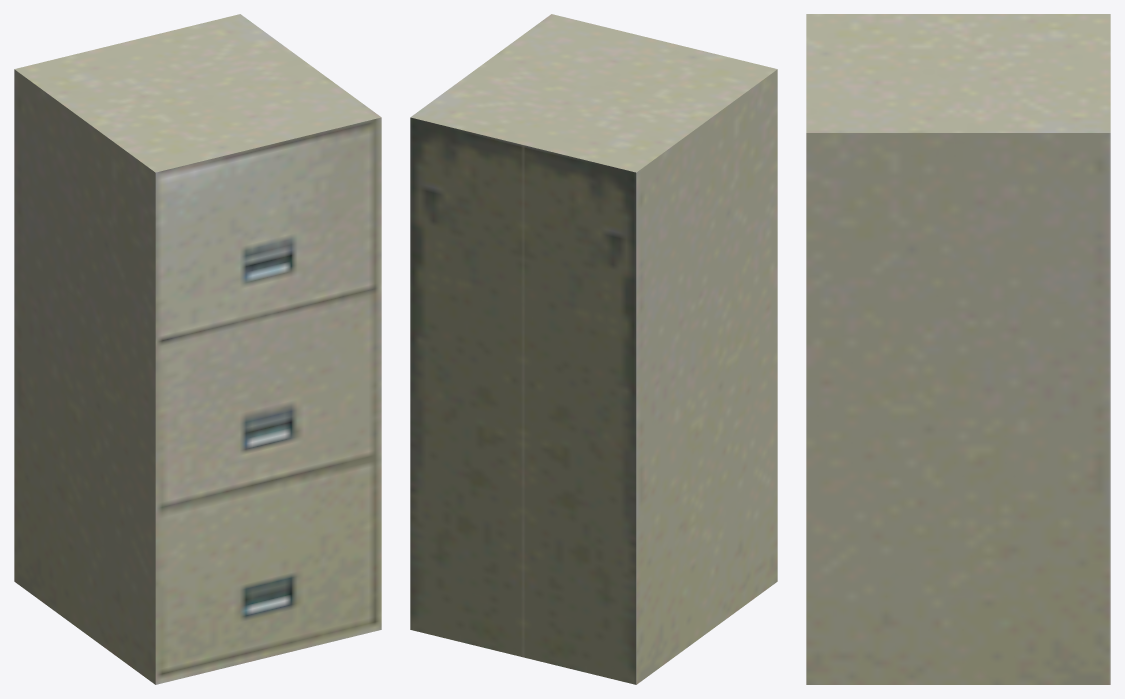
The model's file is file_cabinet_smaller.obj.
3 renders of one model, left to right at view 1: azimuth 30°, elevation 25°; view 2: azimuth 150°, elevation 25°; view 3: azimuth 270°, elevation 25°, orthographic. The views are drawn at different scales.
Parts seen in each view (by area): view 1: file_cabinet_smaller; view 2: file_cabinet_smaller; view 3: file_cabinet_smaller.
Part boxes in pixels (box(x1,y1,x2,y2)): file_cabinet_smaller: box(14, 14, 381, 684); file_cabinet_smaller: box(410, 14, 777, 684); file_cabinet_smaller: box(806, 14, 1110, 684).
Size of the model in its own units: 0.4847 by 1.05 by 0.5246.
